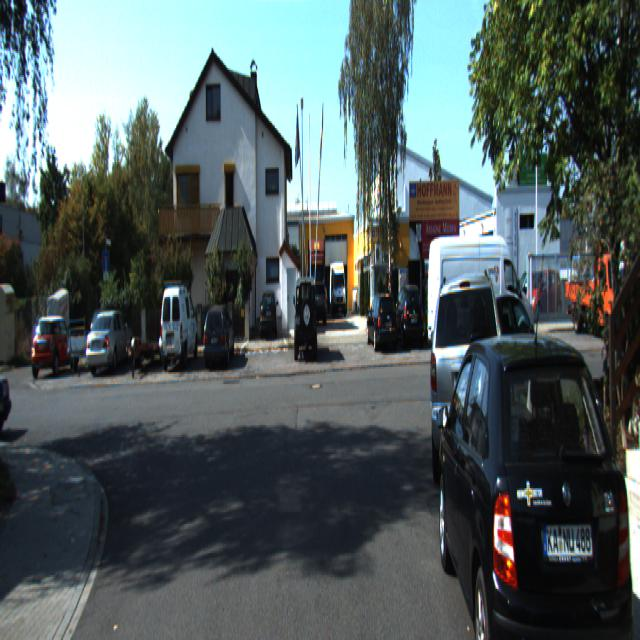Car: (435, 314, 639, 638), (428, 253, 507, 489), (424, 221, 534, 358), (563, 222, 640, 328), (160, 279, 200, 370), (86, 306, 137, 375), (115, 330, 177, 378), (32, 314, 78, 375), (389, 283, 425, 352), (62, 313, 100, 371), (0, 324, 20, 434), (293, 275, 318, 362), (203, 303, 236, 368), (365, 286, 399, 349), (47, 287, 72, 350), (307, 233, 324, 317), (328, 254, 346, 314), (259, 288, 277, 338)
